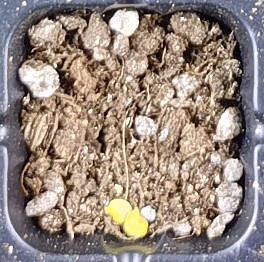chilli seed: (124, 210, 147, 237), (107, 198, 130, 223)
